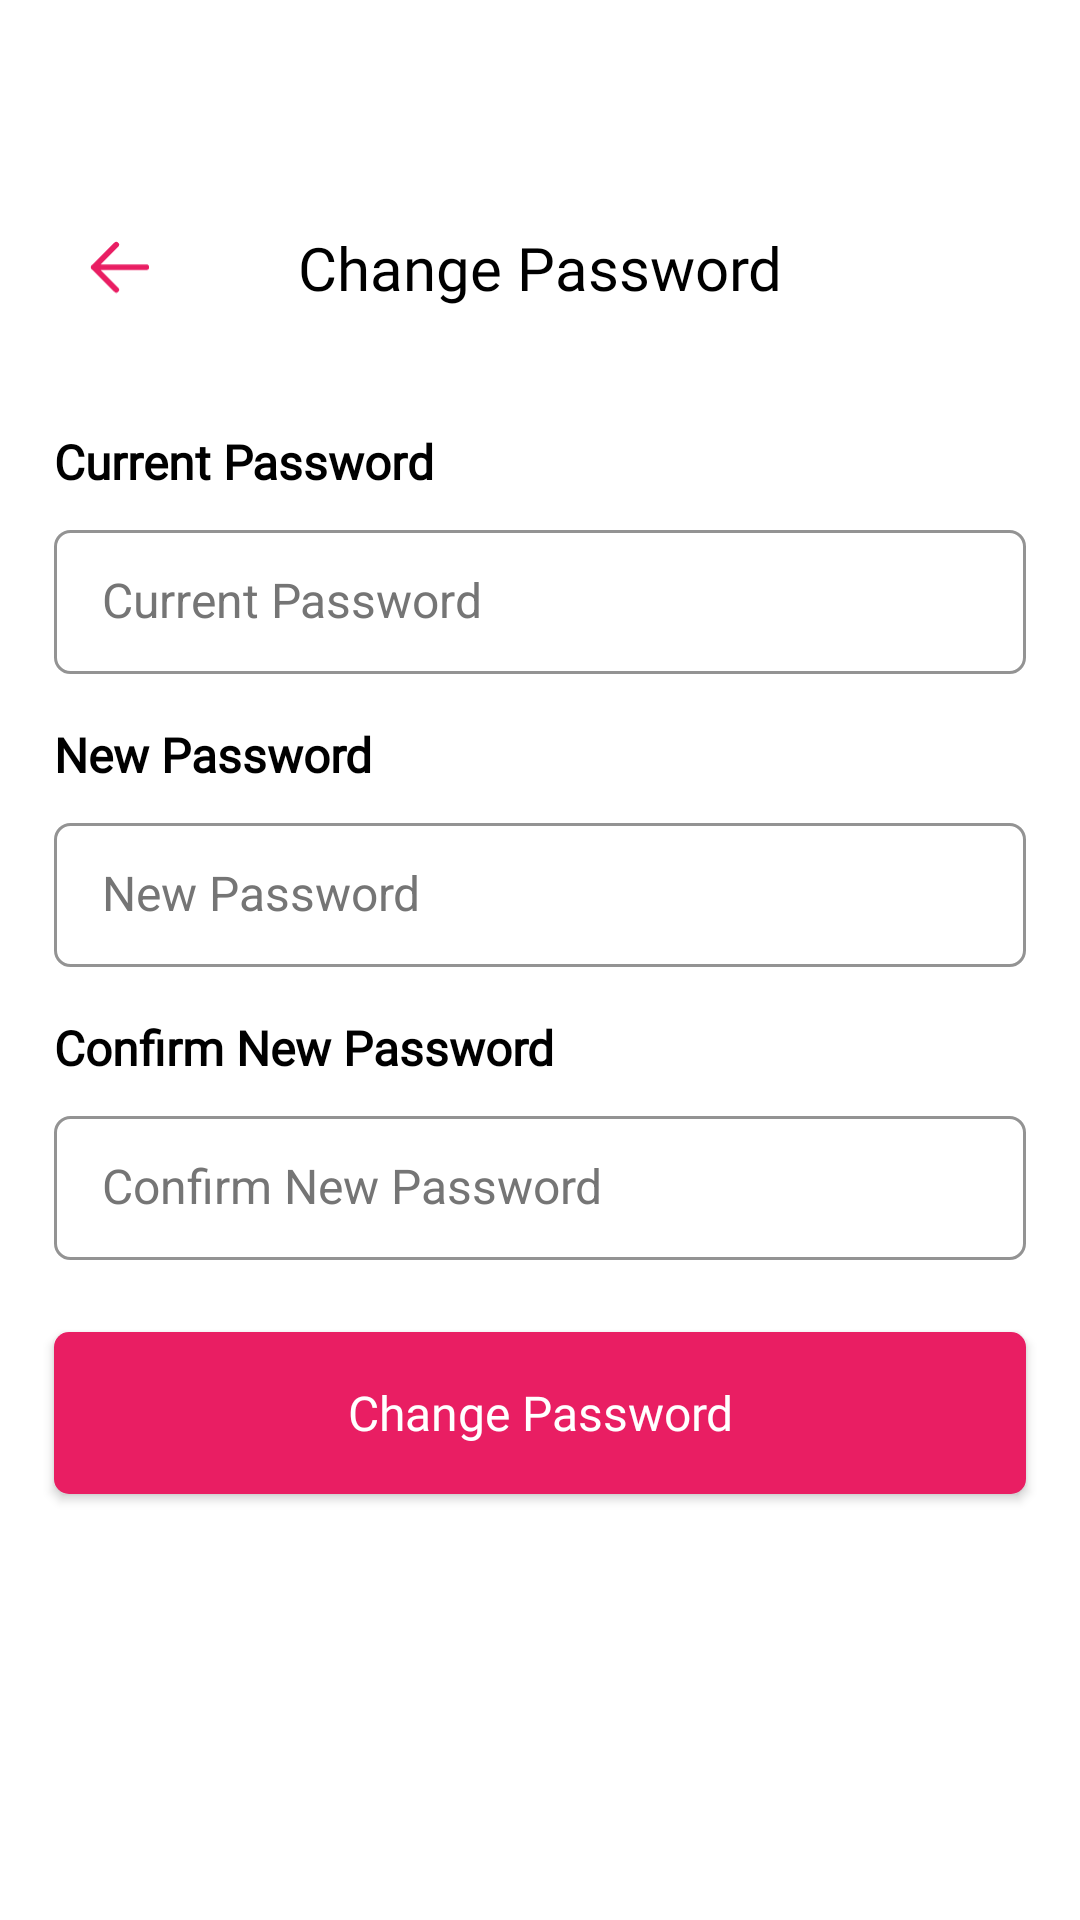

Icon click points for this 1080x1920 phone screenshot, format point (x, y):
left: point (119, 267)
